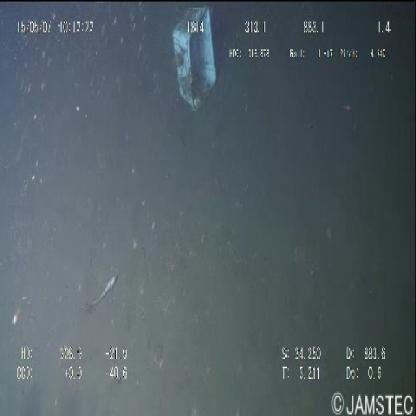Rác: (166, 2, 221, 123)
